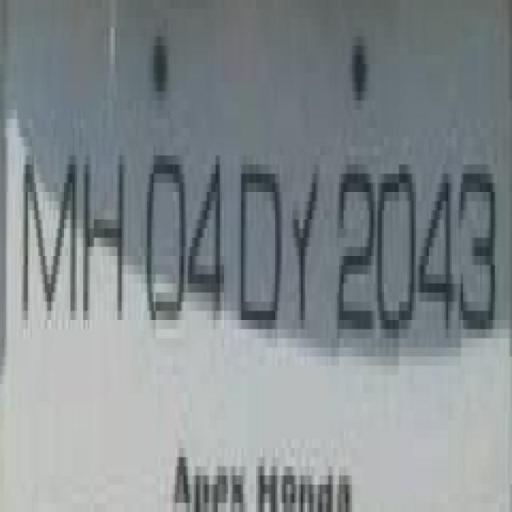number plate: (0, 18, 482, 503)
